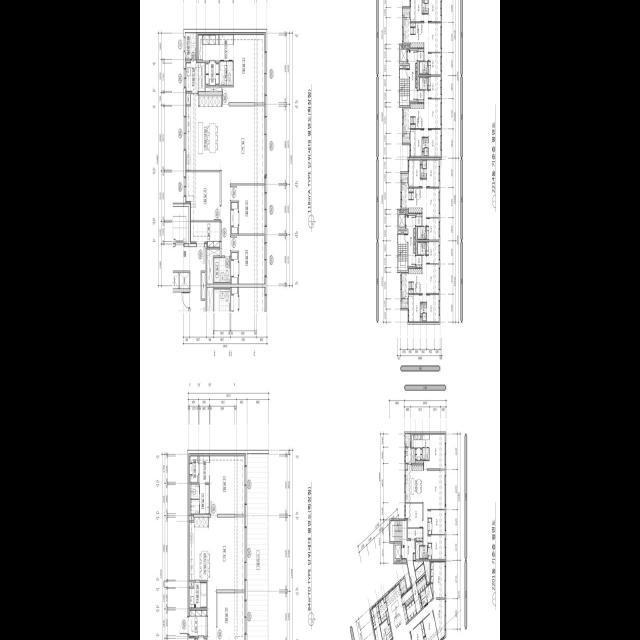background: (140, 0, 500, 640)
space_balconi: (399, 577, 407, 594), (405, 433, 411, 446)
space_bedroom: (222, 32, 265, 102), (210, 453, 246, 514), (185, 171, 220, 220), (231, 235, 265, 283), (231, 185, 265, 233), (217, 592, 245, 640), (424, 433, 445, 468), (431, 561, 445, 597), (423, 611, 438, 640), (428, 509, 445, 534), (428, 535, 445, 559), (405, 503, 422, 527), (408, 294, 422, 322), (410, 129, 424, 157), (408, 159, 422, 186), (428, 129, 441, 157), (427, 294, 439, 322), (427, 159, 439, 186), (410, 0, 424, 21), (428, 76, 441, 98), (411, 620, 425, 640), (429, 52, 441, 74), (427, 241, 439, 263), (427, 218, 439, 239), (429, 0, 441, 21), (231, 252, 238, 283), (231, 202, 238, 233), (428, 518, 432, 534), (428, 543, 432, 559)
space_dressroom: (197, 32, 219, 60), (220, 32, 234, 60), (206, 62, 219, 85), (199, 453, 209, 482), (370, 603, 381, 629), (189, 453, 198, 482), (412, 434, 422, 447), (415, 448, 422, 459)
space_elevator: (173, 206, 189, 243), (394, 543, 401, 562), (400, 45, 407, 63), (398, 210, 405, 228)
space_elevator_hall: (173, 246, 205, 311), (384, 520, 416, 584), (398, 215, 415, 265), (400, 50, 417, 100)
space_front: (190, 222, 220, 247), (189, 609, 207, 637), (412, 582, 422, 613), (416, 574, 427, 593), (406, 600, 416, 620), (408, 528, 423, 541), (416, 213, 422, 225), (418, 90, 424, 102), (418, 48, 424, 60), (416, 255, 422, 267)
space_kitchen: (185, 93, 222, 169), (189, 517, 209, 580), (385, 583, 408, 637), (405, 463, 423, 502), (403, 17, 424, 48), (403, 102, 424, 132), (401, 183, 422, 213), (401, 268, 422, 298)
space_living_room: (221, 105, 265, 255), (208, 517, 245, 640), (393, 599, 445, 640), (423, 470, 445, 545), (424, 14, 441, 60), (424, 90, 441, 136), (422, 255, 439, 301), (422, 179, 439, 225)
space_multipurpose_space: (185, 60, 205, 91), (189, 582, 207, 607)
space_other: (207, 249, 220, 283), (402, 587, 414, 606), (378, 598, 387, 622), (415, 563, 425, 579), (405, 447, 415, 462), (423, 561, 430, 582), (180, 272, 189, 288), (416, 541, 422, 559), (173, 272, 179, 288), (413, 561, 423, 570), (202, 272, 205, 298), (185, 93, 190, 104), (386, 610, 389, 624), (430, 583, 433, 595), (400, 65, 409, 68), (398, 230, 407, 233), (189, 515, 193, 520), (189, 581, 193, 586), (383, 596, 386, 602), (409, 289, 413, 293), (411, 124, 415, 128), (411, 22, 415, 26), (415, 460, 423, 462), (405, 464, 408, 469), (402, 559, 407, 562), (418, 61, 419, 74), (418, 76, 419, 89), (416, 226, 417, 239), (416, 241, 417, 254), (409, 188, 413, 191), (413, 553, 415, 559), (422, 152, 424, 157), (420, 317, 422, 322), (416, 63, 417, 71), (414, 228, 415, 236), (416, 79, 417, 87), (420, 159, 422, 163), (414, 245, 415, 252), (414, 237, 415, 244), (416, 72, 417, 78), (406, 210, 407, 214), (408, 45, 409, 48)
space_outdoor_room: (185, 32, 196, 58), (403, 133, 410, 142), (401, 173, 408, 182), (401, 299, 408, 308), (403, 8, 410, 16)
space_staircase: (400, 78, 409, 105), (398, 243, 407, 270), (390, 520, 402, 531)
space_toilet: (214, 257, 230, 282), (199, 484, 209, 513), (380, 619, 392, 640), (226, 61, 233, 84), (425, 584, 433, 602), (220, 61, 226, 84), (190, 484, 199, 498), (190, 499, 199, 513), (374, 625, 382, 640), (420, 546, 428, 558), (420, 61, 428, 73), (420, 77, 428, 89), (418, 242, 426, 254), (418, 226, 426, 238), (422, 434, 429, 447), (420, 164, 426, 178), (422, 137, 428, 151), (422, 0, 428, 13), (420, 303, 426, 316), (420, 589, 426, 600), (421, 596, 427, 607), (422, 447, 426, 459), (426, 447, 429, 459), (424, 147, 428, 155), (422, 160, 426, 168), (423, 313, 426, 320), (424, 0, 428, 3)
